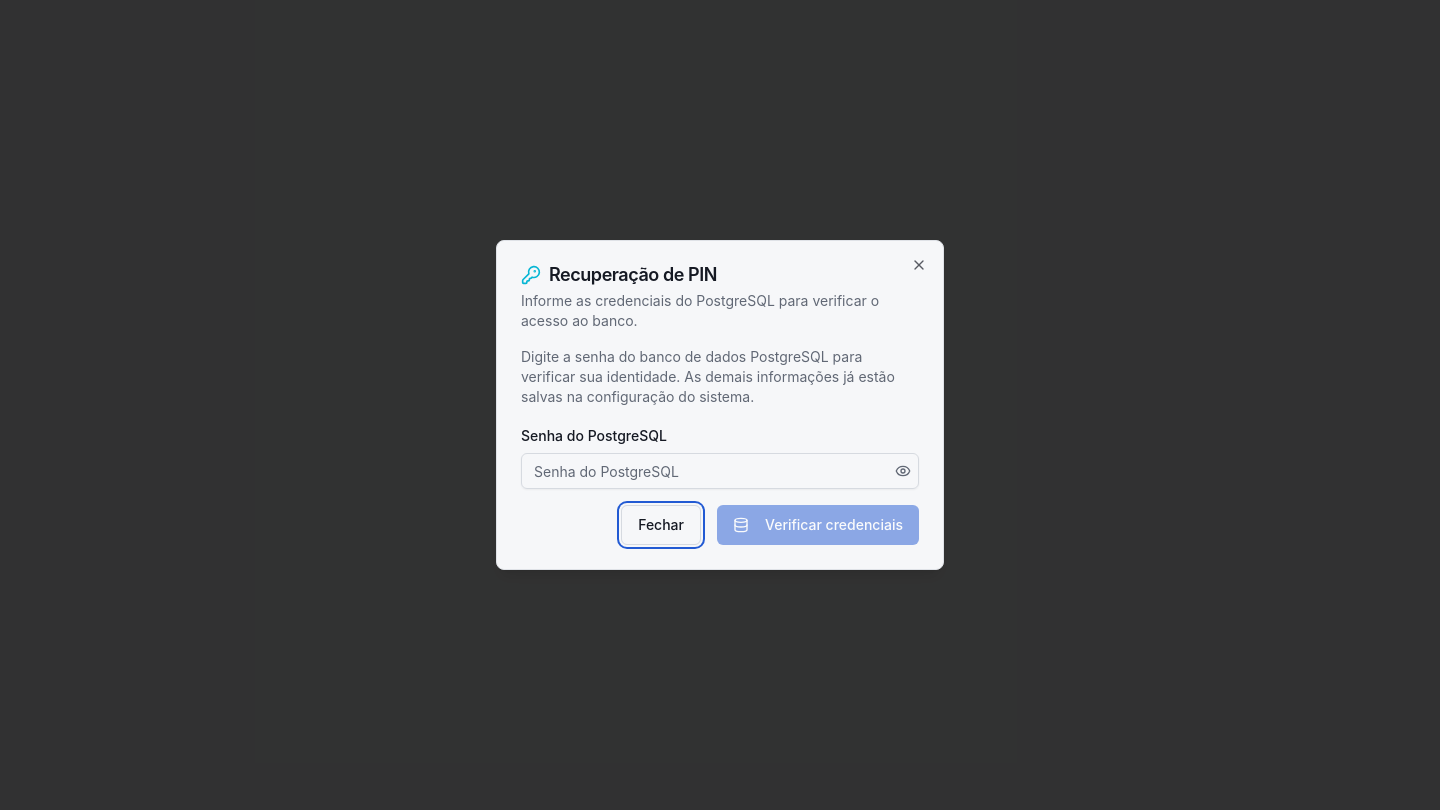
Test: PasswordRecoveryDialog › Step 1 — Senha PostgreSQL apenas › avanca para step 2 quando credenciais sao validas
The image size is (1440, 810).
Type "secret123" into the password field labelled "Senha do PostgreSQL" at (720, 471), box [521,453,919,489]
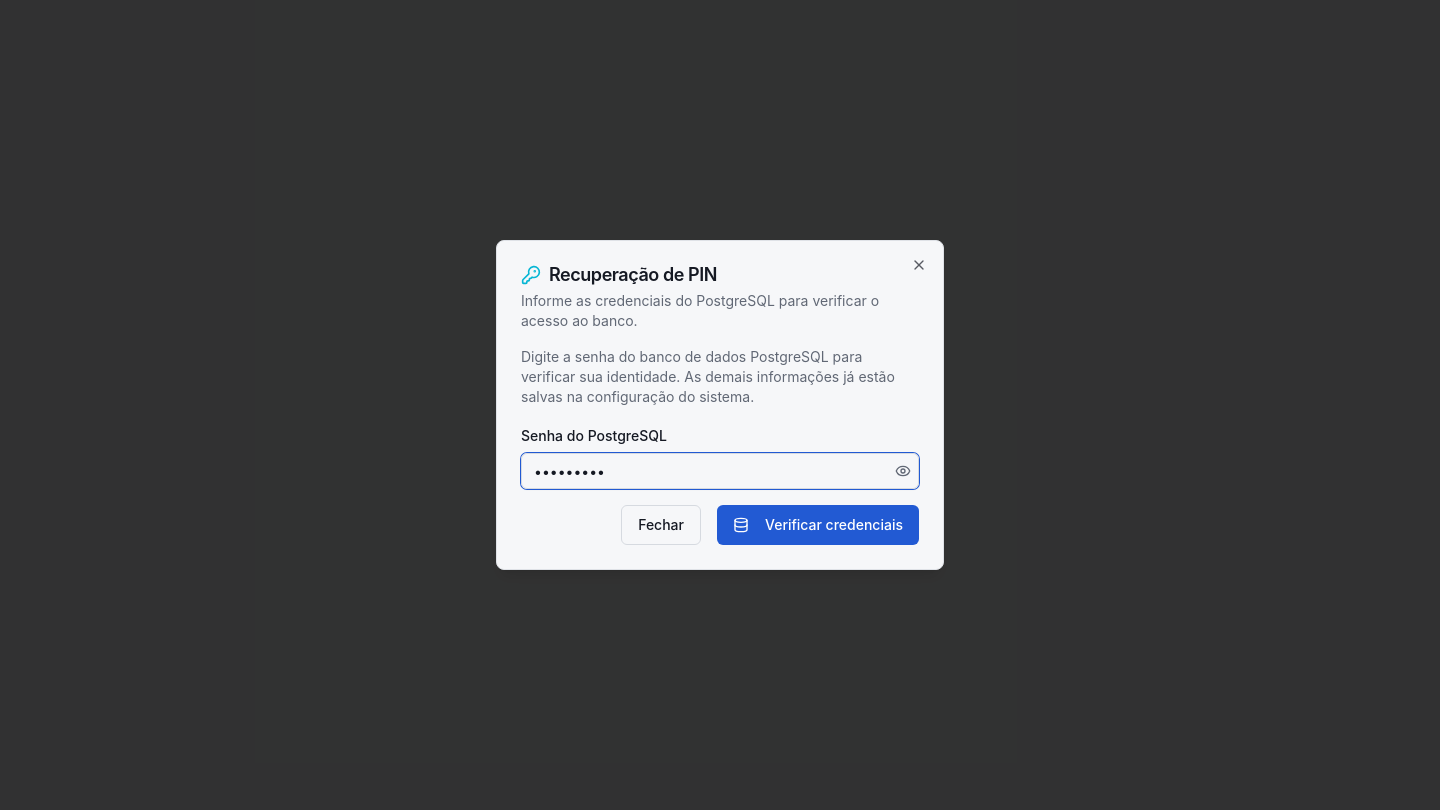
Click the button "Verificar credenciais" at (818, 525), box [717,505,919,545]
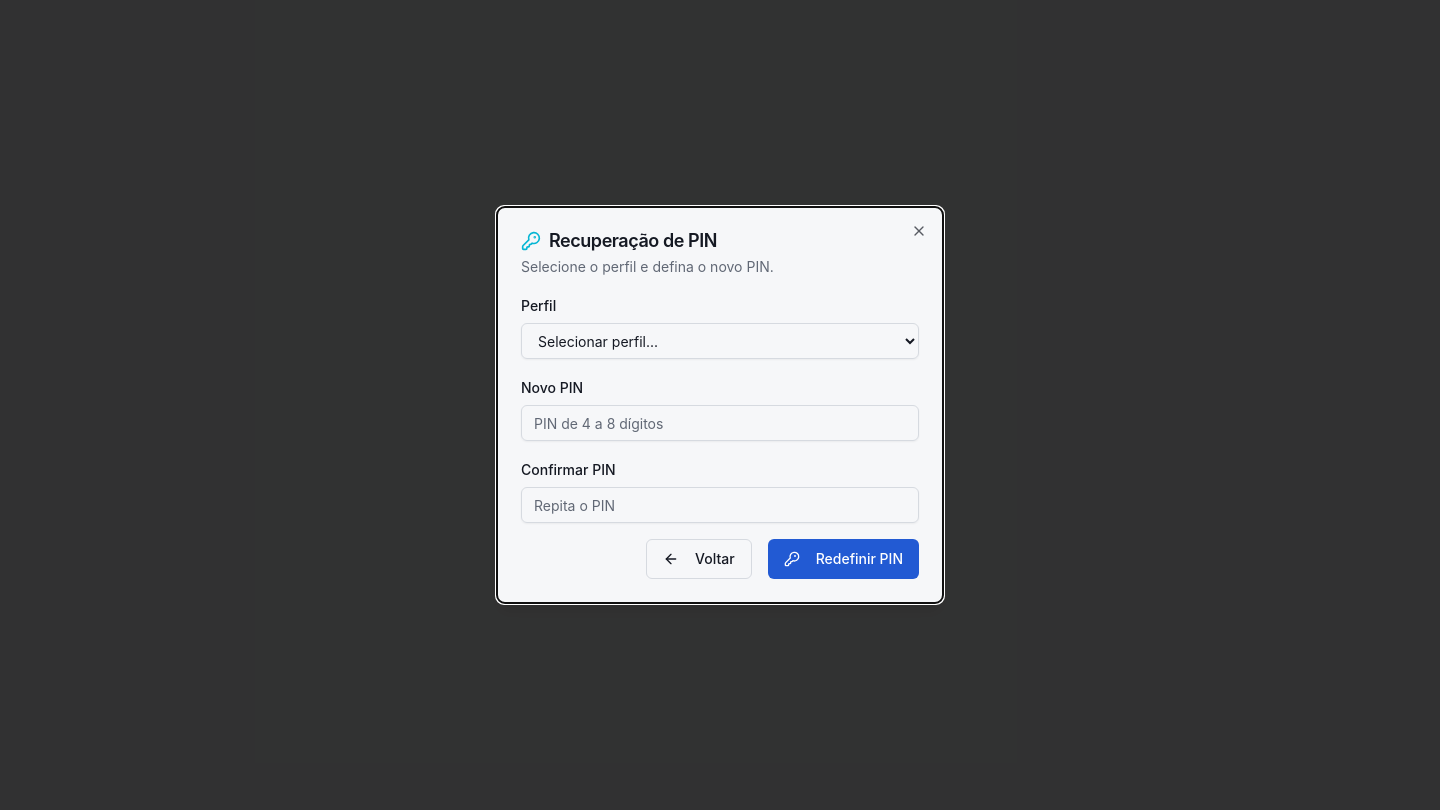
Result: the text "Selecione o perfil e defina o novo PIN." is shown at [521,258,774,275]
